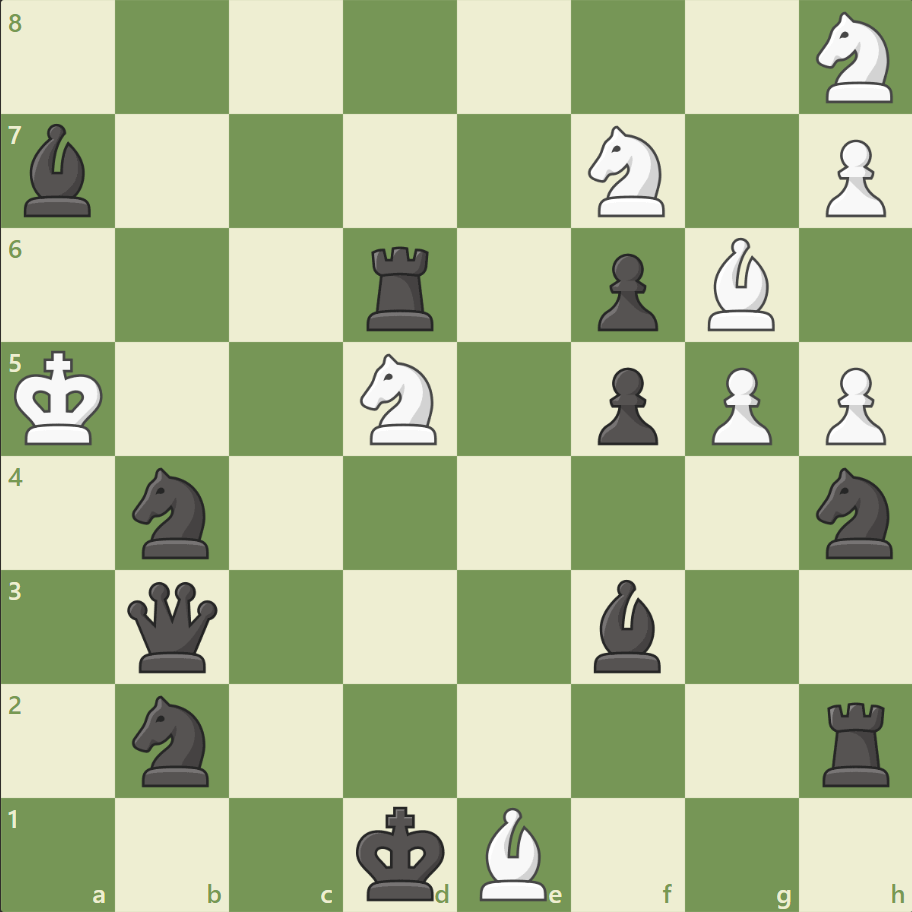B: (698, 233, 782, 336), (471, 801, 555, 904)
K: (11, 344, 111, 452)
N: (351, 348, 449, 450), (806, 7, 903, 110), (579, 121, 676, 223)
P: (701, 359, 776, 450), (815, 132, 889, 223), (815, 359, 889, 450)
b: (17, 120, 101, 222), (585, 574, 669, 676)
k: (351, 798, 451, 906)
n: (124, 461, 222, 564), (124, 688, 222, 791), (806, 461, 903, 564)
p: (588, 246, 662, 337), (588, 359, 662, 450)
q: (124, 576, 223, 676)
r: (814, 693, 897, 790), (360, 239, 442, 336)
